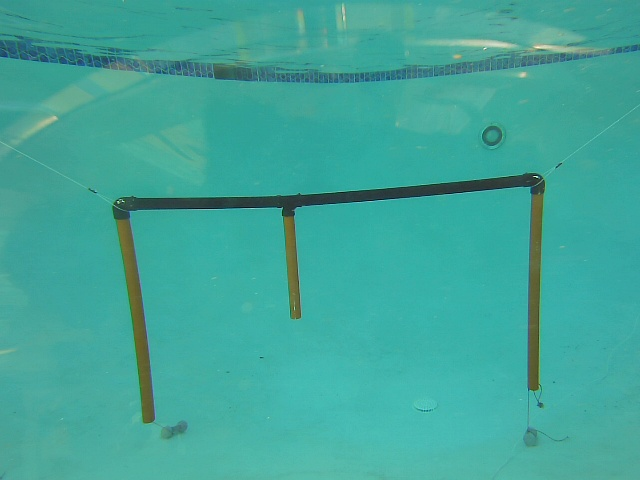Gate: (115, 210, 158, 425), (521, 190, 547, 392), (277, 214, 303, 322)
